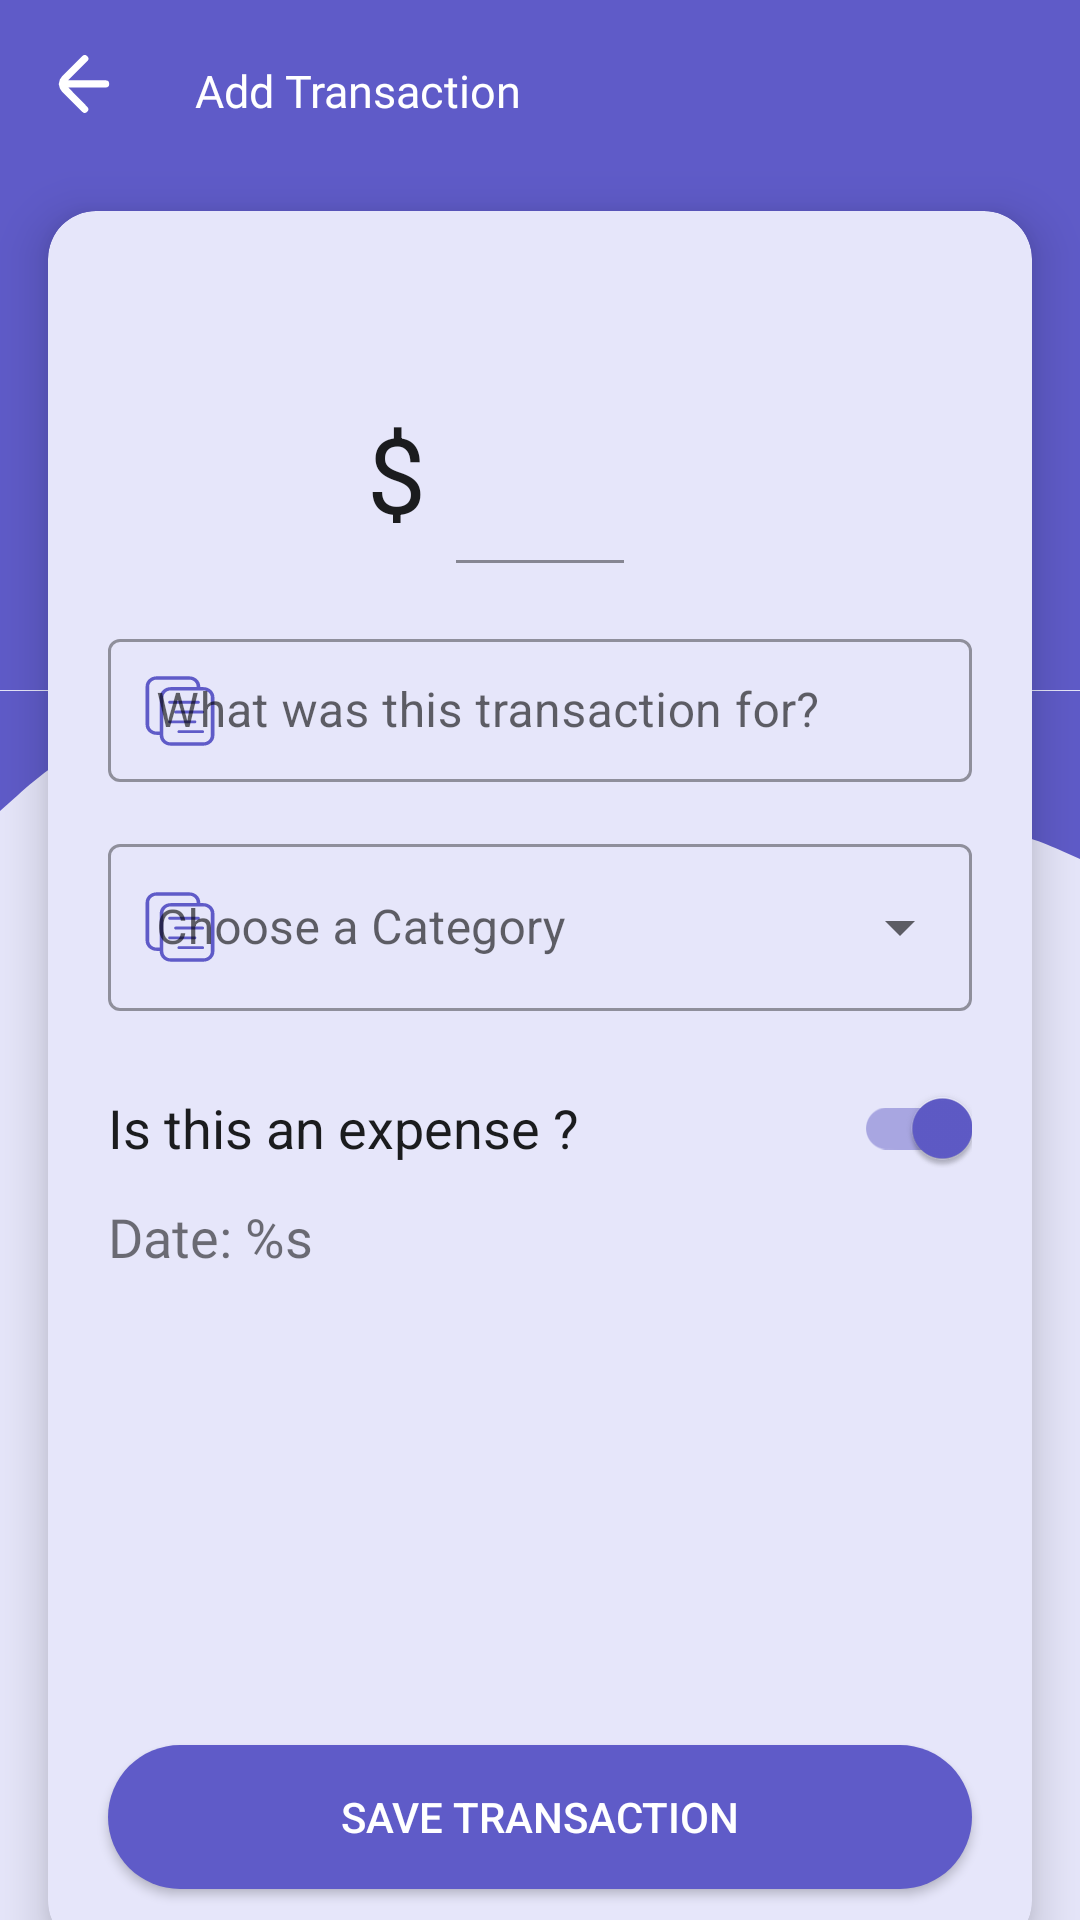

Icons on this 1080×1920 Android screen, each with its box as rect(x1, y1, x2, y2):
back arrow: rect(58, 55, 109, 113)
